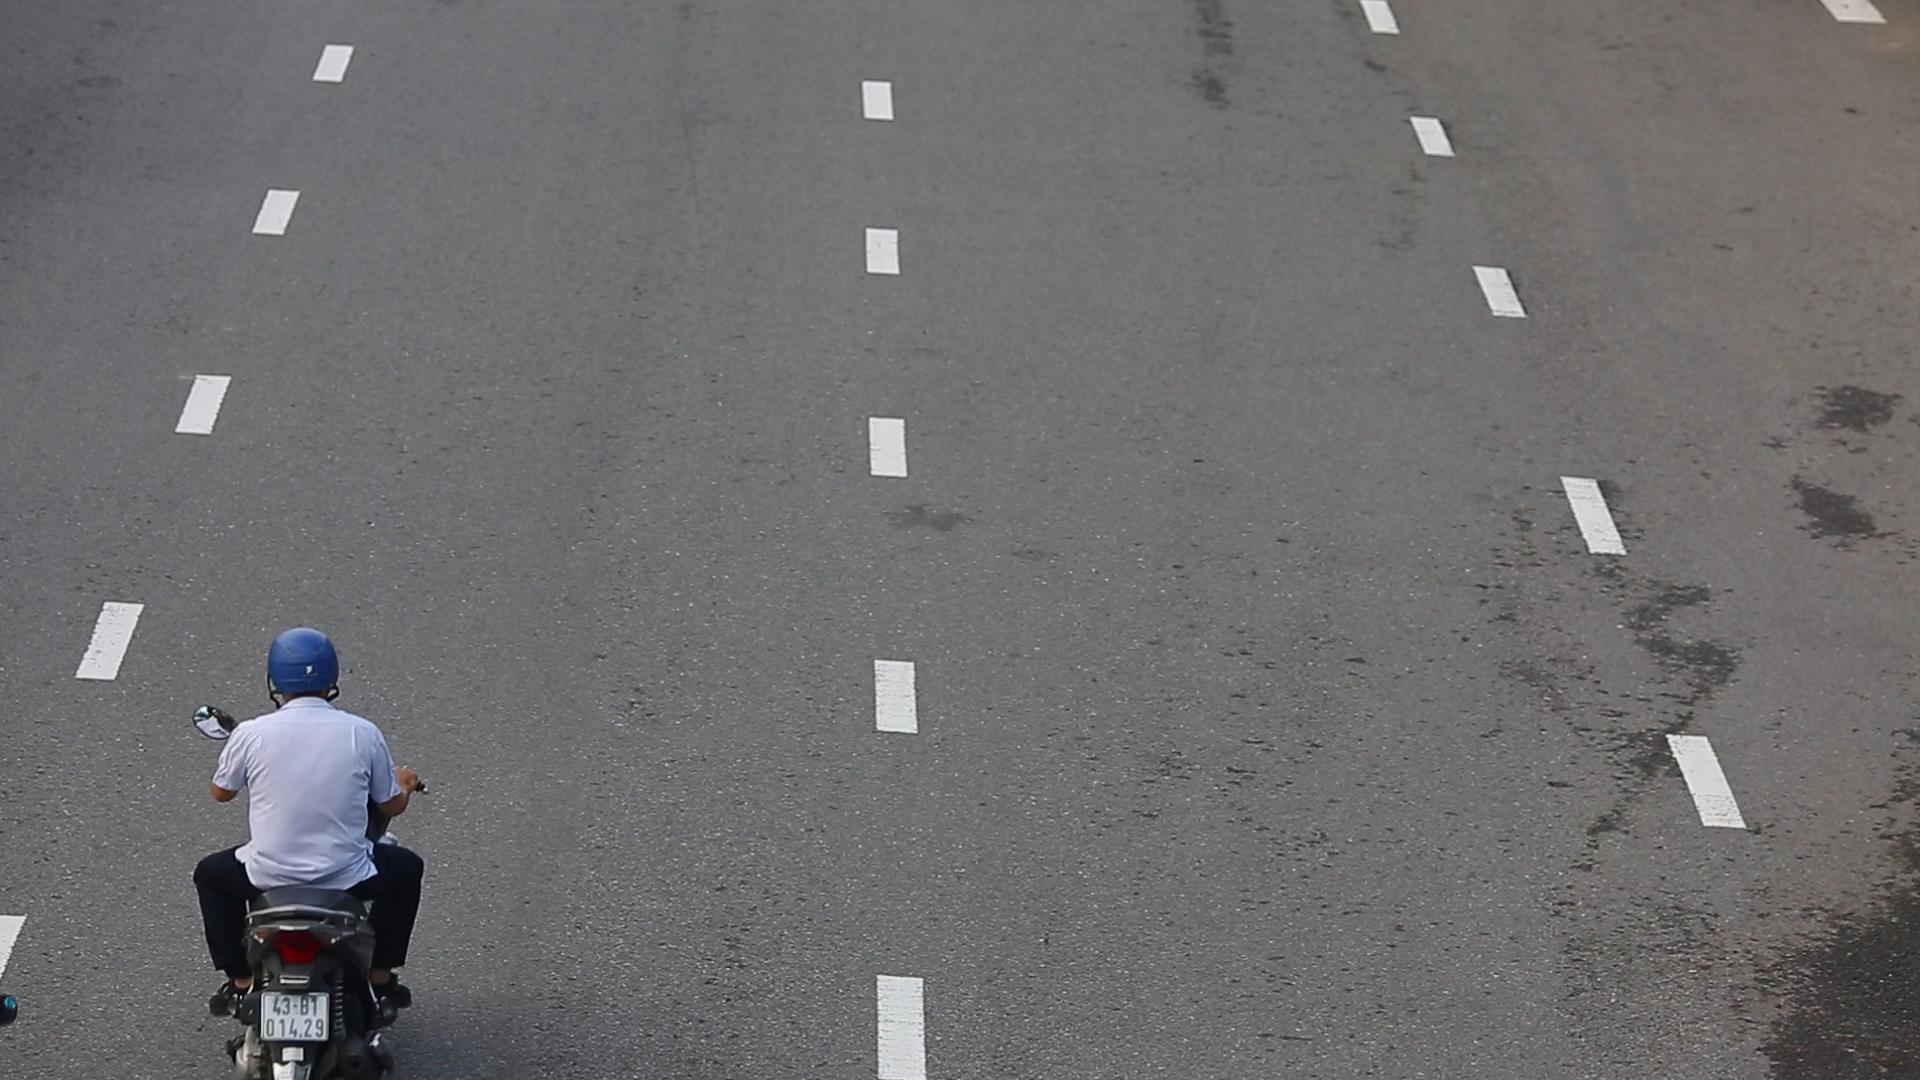motobike: (175, 617, 443, 1080)
